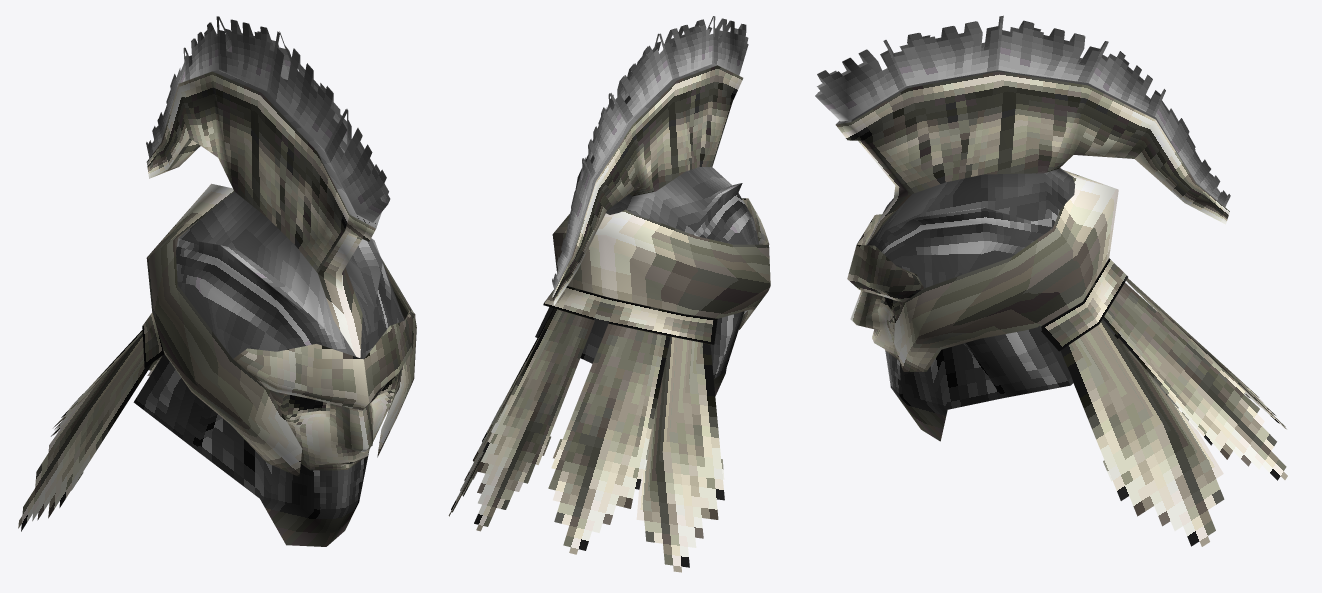
File: f_helmet284.obj
3 views of the same model, side by side, from view 1: azimuth 30°, elevation 25°; view 2: azimuth 150°, elevation 25°; view 3: azimuth 270°, elevation 25° (orthographic). The views are drawn at different scales.
Visible parts, largest first — view 1: mesh02, mesh01; view 2: mesh02, mesh01; view 3: mesh02, mesh01.
Part boxes in pixels (left/top/right/bottom): mesh02: left=18, top=69, right=416, bottom=546; mesh01: left=146, top=16, right=390, bottom=222; mesh02: left=448, top=64, right=770, bottom=572; mesh01: left=552, top=16, right=748, bottom=289; mesh02: left=835, top=70, right=1287, bottom=546; mesh01: left=815, top=15, right=1230, bottom=206.
Bounding box in the file's own units: 32.32 × 49.67 × 46.62.
3 materials, 3 textured.
